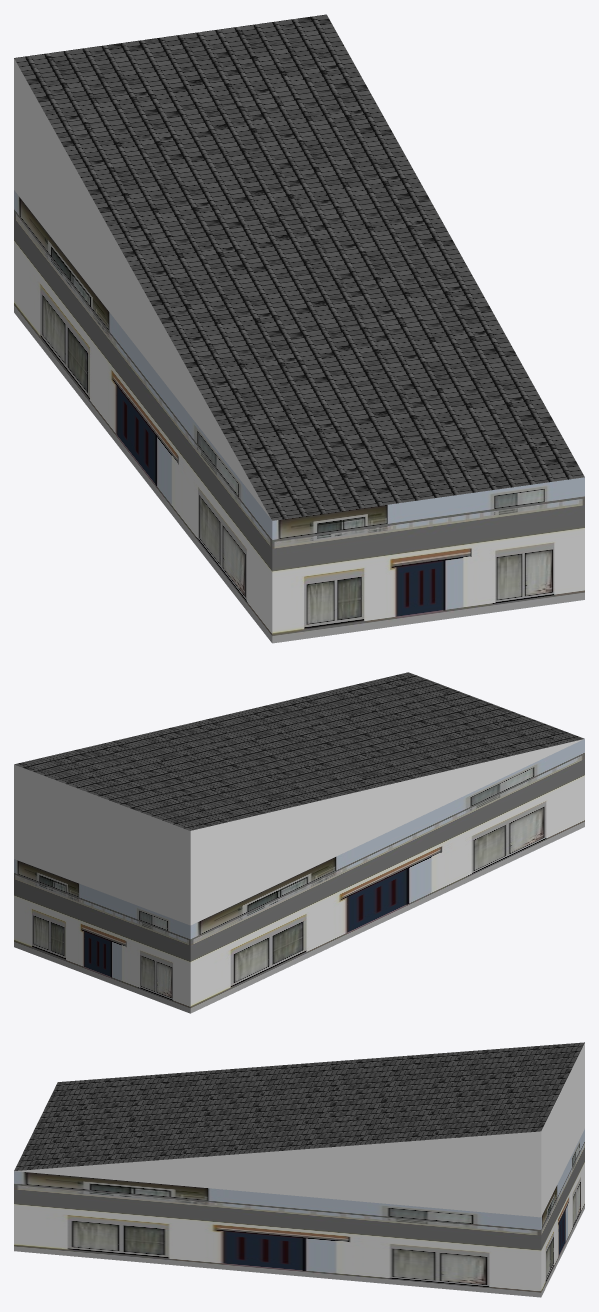
3 renders of one model, top to bottom at view 1: azimuth 30°, elevation 25°; view 2: azimuth 150°, elevation 25°; view 3: azimuth 270°, elevation 25°, orthographic. The views are drawn at different scales.
Parts seen in each view (by area): view 1: CityEngineMaterial_8_m, CityEngineMaterial_7_m, CityEngineMaterial_3_m; view 2: CityEngineMaterial_7_m, CityEngineMaterial_8_m, CityEngineMaterial_3_m; view 3: CityEngineMaterial_7_m, CityEngineMaterial_8_m, CityEngineMaterial_3_m.
Boxes of the visible parts, x1,y1,x2,y2 form: CityEngineMaterial_8_m: [14, 14, 584, 520]; CityEngineMaterial_7_m: [14, 190, 584, 643]; CityEngineMaterial_3_m: [14, 58, 271, 519]; CityEngineMaterial_7_m: [14, 739, 584, 1013]; CityEngineMaterial_8_m: [14, 672, 584, 830]; CityEngineMaterial_3_m: [14, 739, 583, 925]; CityEngineMaterial_7_m: [14, 1129, 584, 1297]; CityEngineMaterial_8_m: [14, 1042, 584, 1170]; CityEngineMaterial_3_m: [15, 1043, 584, 1217].
Bounding box in the file's own units: 24.51 × 14.03 × 43.7.
